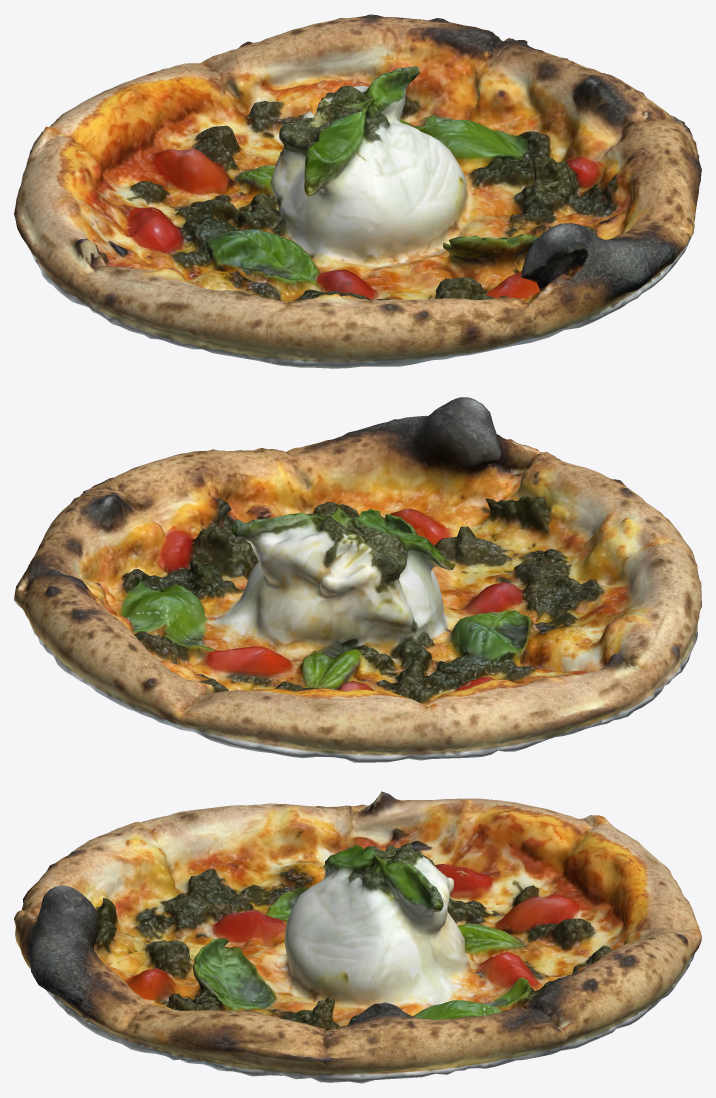
The model's file is Burata 4.glb.
The picture shows the model from 3 angles, top to bottom: view 1: azimuth 30°, elevation 25°; view 2: azimuth 150°, elevation 25°; view 3: azimuth 270°, elevation 25°; orthographic projection. The views are drawn at different scales.
Parts seen in each view (by area): view 1: ObjectCapture; view 2: ObjectCapture; view 3: ObjectCapture.
Boxes of the visible parts, x1,y1,x2,y2 form: ObjectCapture: (14, 14, 701, 368); ObjectCapture: (14, 397, 701, 762); ObjectCapture: (14, 791, 701, 1083).
Bounding box in the file's own units: 0.276 × 0.0604 × 0.2827.
1 material, 1 textured.
